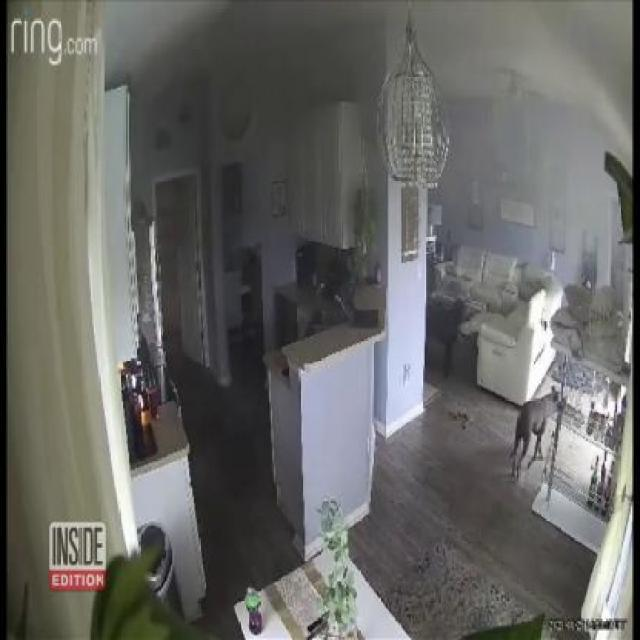smoke: (116, 12, 375, 117), (449, 36, 606, 199)
